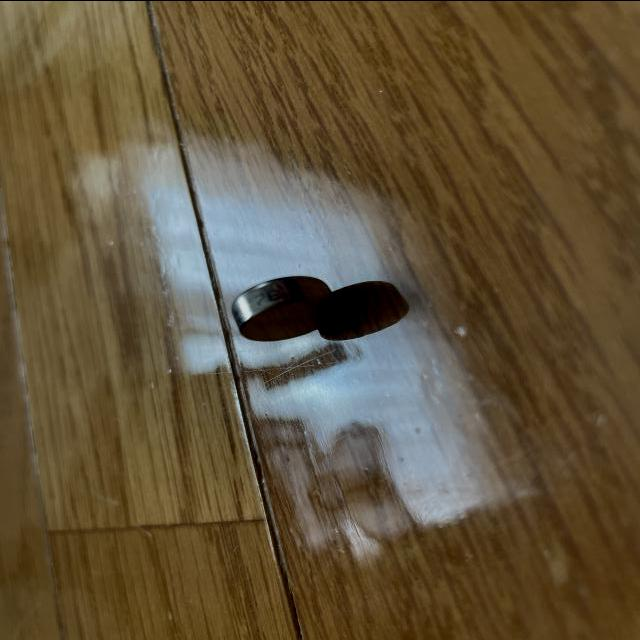COIN: (228, 272, 348, 342)
